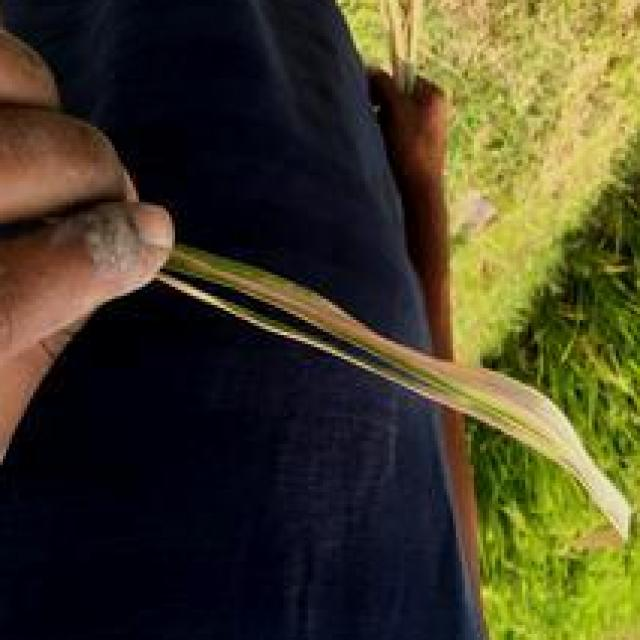Bacterial_Leaf_Blight: (193, 308, 583, 444)
